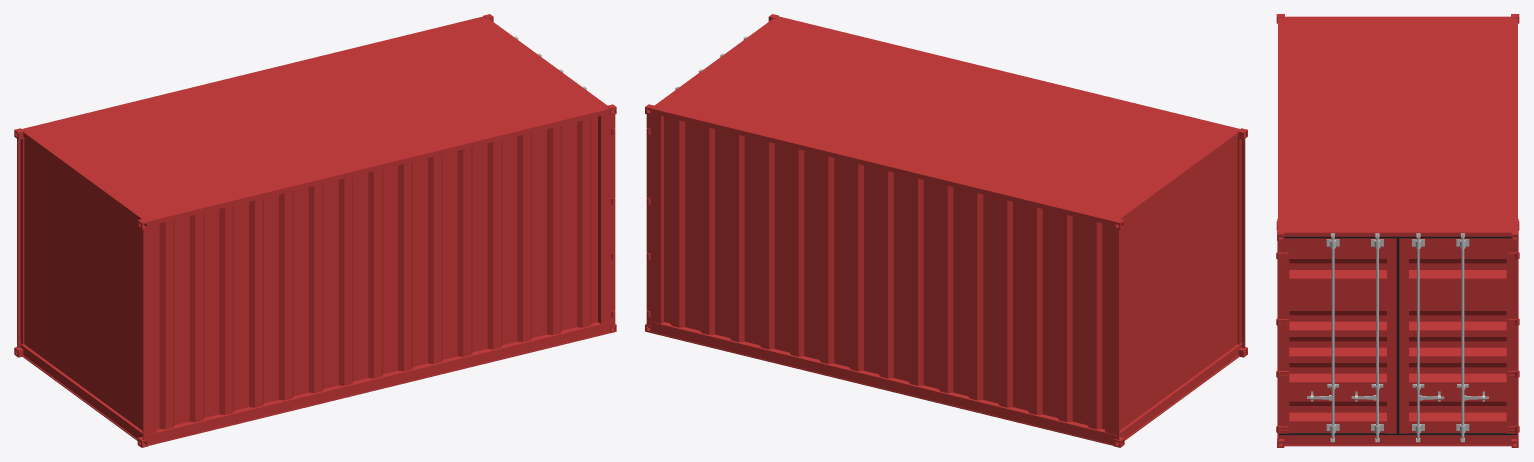
The picture shows the model from 3 angles, left to right: view 1: azimuth 30°, elevation 25°; view 2: azimuth 150°, elevation 25°; view 3: azimuth 270°, elevation 25°; orthographic projection. The views are drawn at different scales.
Parts seen in each view (by area): view 1: Объект_Куб, Объект_Куб_1, Объект_Куб_2, Объект_Куб_21, Объект_Куб_19, Объект_Куб_3, Объект_Куб_7, Объект_Куб_4, Объект_Куб_9, Объект_Куб_20; view 2: Объект_Куб, Объект_Куб_1, Объект_Куб_2, Объект_Куб_20, Объект_Куб_18, Объект_Куб_3, Объект_Куб_6, Объект_Куб_4, Объект_Куб_21, Объект_Куб_8; view 3: Объект_Куб_1, Объект_Куб, Объект_Куб_5, Объект_Куб_2, Объект_Куб_23, Объект_Куб_22, Объект_Куб_7, Объект_Куб_6, Объект_Куб_3, Объект_Куб_24, Объект_Цилиндр_11, Объект_Цилиндр_10 (+6 smaller).
Part boxes in pixels (x1,y1,x2,y2): Объект_Куб: (24,116,597,430); Объект_Куб_1: (22,16,609,226); Объект_Куб_2: (20,323,611,444); Объект_Куб_21: (142,225,154,439); Объект_Куб_19: (603,114,615,325); Объект_Куб_3: (19,321,612,436); Объект_Куб_7: (598,113,609,323); Объект_Куб_4: (22,332,610,445); Объект_Куб_9: (20,138,24,344); Объект_Куб_20: (17,139,20,347); Объект_Куб: (664,116,1237,430); Объект_Куб_1: (652,16,1239,225); Объект_Куб_2: (650,323,1241,444); Объект_Куб_20: (1107,225,1119,439); Объект_Куб_18: (646,114,658,325); Объект_Куб_3: (649,321,1242,436); Объект_Куб_6: (652,113,663,323); Объект_Куб_4: (651,332,1239,445); Объект_Куб_21: (1241,139,1245,347); Объект_Куб_8: (1237,138,1241,344); Объект_Куб_1: (1278,16,1517,236); Объект_Куб: (1289,238,1506,432); Объект_Куб_5: (1387,238,1408,433); Объект_Куб_2: (1279,436,1516,444); Объект_Куб_23: (1506,238,1512,433); Объект_Куб_22: (1283,238,1289,433); Объект_Куб_7: (1279,241,1283,433); Объект_Куб_6: (1512,241,1516,433); Объект_Куб_3: (1277,218,1518,436); Объект_Куб_24: (1396,238,1399,433); Объект_Цилиндр_11: (1331,237,1334,439); Объект_Цилиндр_10: (1461,237,1464,439).
Size of the model in its own units: 456 by 206 by 212.
